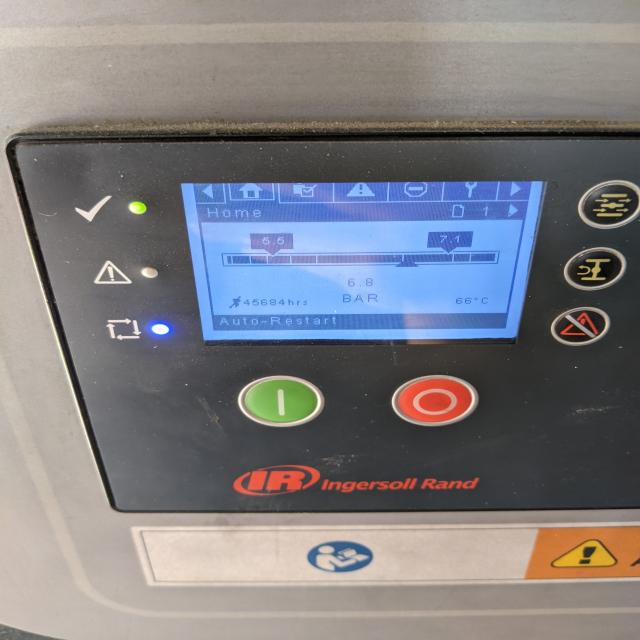display: (182, 181, 547, 340)
frame: (430, 231, 468, 248), (341, 273, 377, 289), (257, 232, 288, 248), (242, 297, 286, 307), (448, 293, 473, 307), (479, 202, 496, 222)
gauge: (8, 122, 640, 513)
